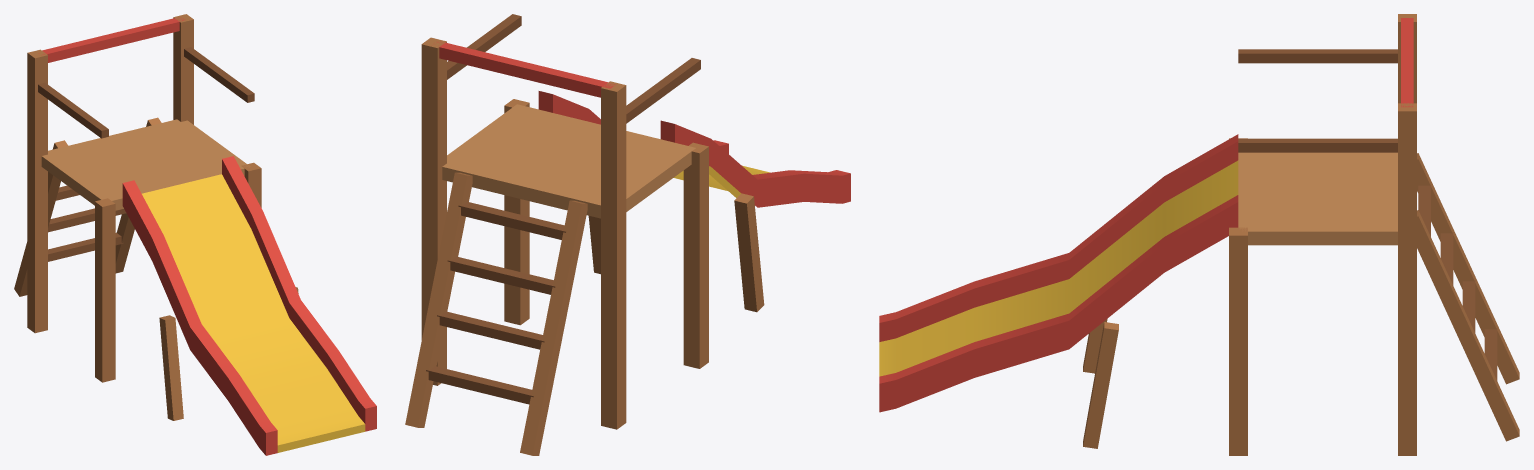
The model's file is playground_slide.glb.
The picture shows the model from 3 angles, left to right: view 1: azimuth 30°, elevation 25°; view 2: azimuth 150°, elevation 25°; view 3: azimuth 270°, elevation 25°; orthographic projection. The views are drawn at different scales.
Parts seen in each view (by area): view 1: playground_slide; view 2: playground_slide; view 3: playground_slide.
Part boxes in pixels (box(x1,y1,x2,y2)): playground_slide: box(14, 14, 376, 455); playground_slide: box(405, 14, 850, 455); playground_slide: box(879, 14, 1519, 455).
Bounding box in the file's own units: 1.09 × 1.81 × 3.03.
1 material, 1 textured.
